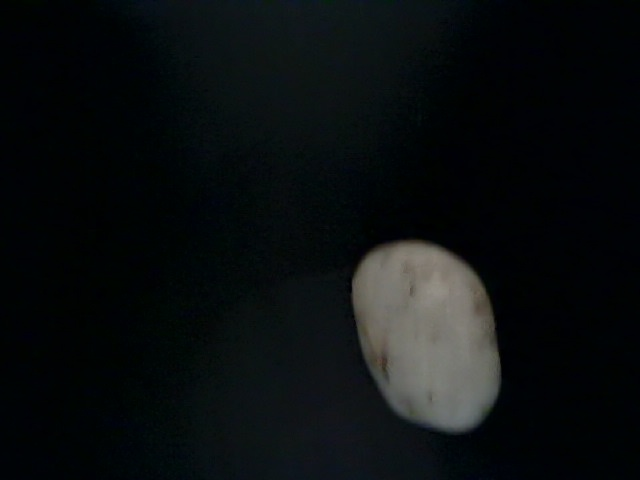QTLJ: (439, 388, 581, 480)
